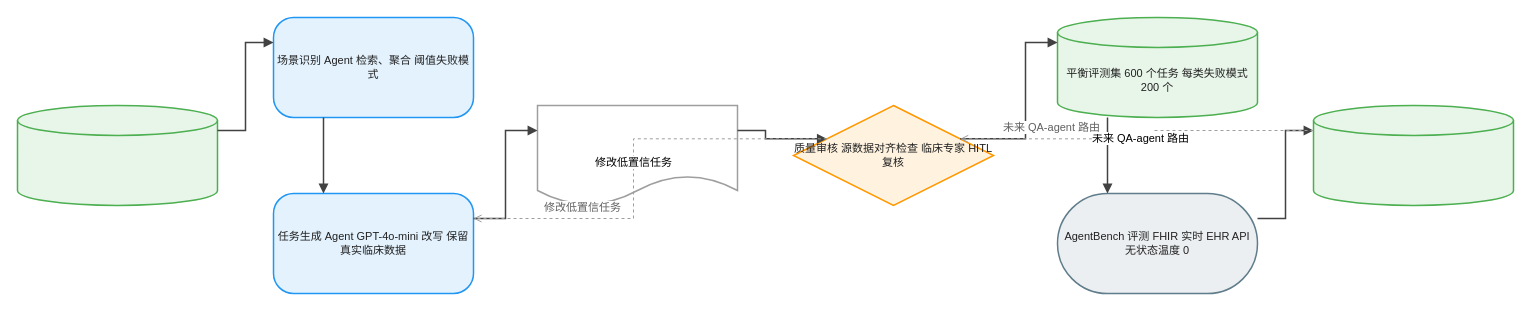
This 1532x312 diagram has some shape labels left out. Here are the shapes that lost their labels. From the top down, the centre of each, then its label:
[117,155]: 真实 EHR 观测 5 万记录 / 695 名患者 实验室代码与时间戳
[637,155]: 结构化 ART 任务 指令、上下文 标准答案与 MRN
[1413,155]: 成功率报告 按类别 exact match 检索、聚合、阈值
